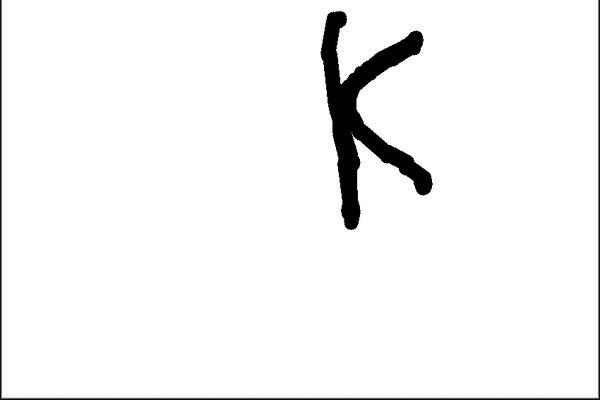K: (318, 5, 438, 233)
